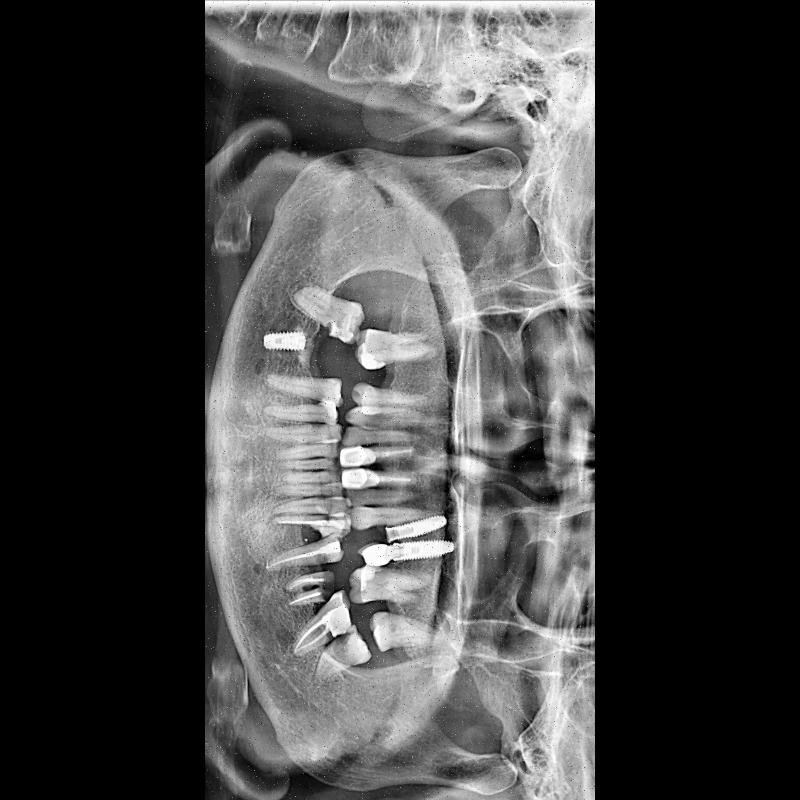osstem: (390, 537, 458, 569), (387, 512, 449, 540), (261, 326, 307, 360)
